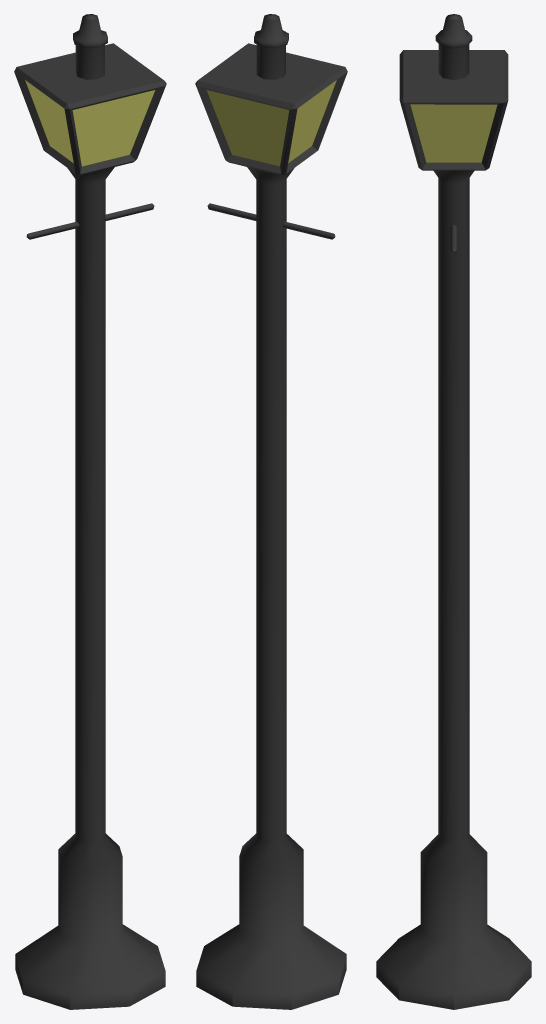
Rendered from StreetLight_02.fbx.
3 renders of one model, left to right at view 1: azimuth 30°, elevation 25°; view 2: azimuth 150°, elevation 25°; view 3: azimuth 270°, elevation 25°, orthographic.
Visible parts, largest first — view 1: StreetLight_02; view 2: StreetLight_02; view 3: StreetLight_02.
Boxes of the visible parts, x1,y1,x2,y2 form: StreetLight_02: (14, 14, 166, 1009); StreetLight_02: (195, 14, 347, 1009); StreetLight_02: (376, 14, 531, 1009).
Bounding box in the file's own units: 9.6 × 65.47 × 9.6.
